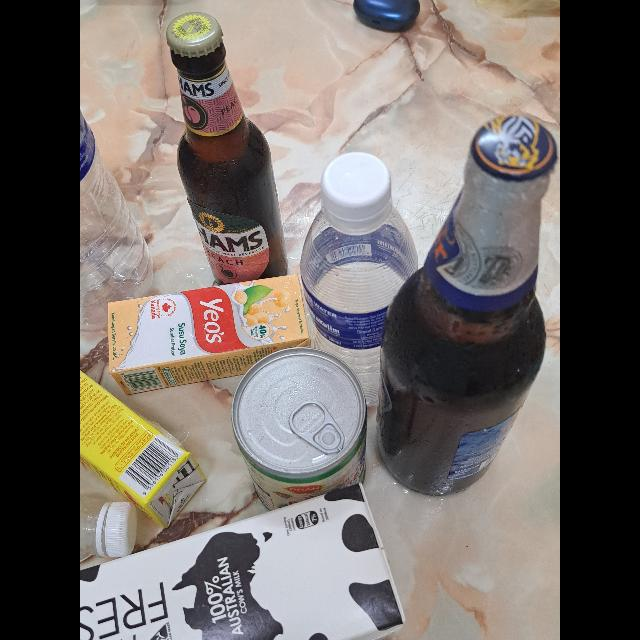aba de lata: (288, 399, 344, 453)
caixinha: (80, 480, 408, 640), (107, 274, 310, 396), (80, 370, 208, 530)
garrafa de vidro: (372, 114, 560, 498), (167, 13, 289, 283)
garrafa plástica: (300, 202, 418, 404), (80, 107, 154, 331), (80, 494, 106, 564)
lata: (230, 348, 368, 510)
tampa plástica: (322, 152, 392, 230), (105, 501, 136, 557)
